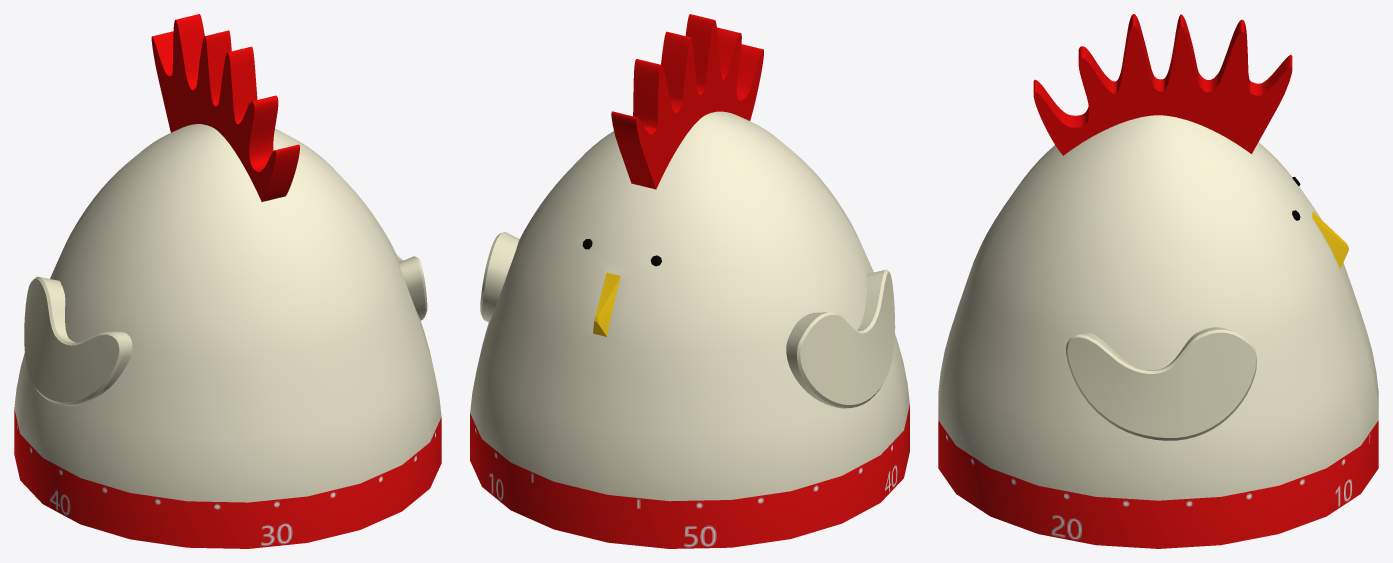
The model's file is gallina.glb.glb.
3 views of the same model, side by side, from view 1: azimuth 30°, elevation 25°; view 2: azimuth 150°, elevation 25°; view 3: azimuth 270°, elevation 25° (orthographic). The views are drawn at different scales.
Parts seen in each view (by area): view 1: Line001_16 - Matte Plastic_0, Line002, Line003_Material #27_0, Line004_Material #27_0; view 2: Line001_16 - Matte Plastic_0, Line002, Line003_Material #27_0, Line004_Material #27_0; view 3: Line001_16 - Matte Plastic_0, Line002, Line004_Material #27_0.
Part boxes in pixels (left/top/right/bottom): Line001_16 - Matte Plastic_0: left=14, top=124, right=441, bottom=548; Line002: left=151, top=14, right=299, bottom=201; Line003_Material #27_0: left=24, top=276, right=132, bottom=405; Line004_Material #27_0: left=396, top=254, right=427, bottom=320; Line001_16 - Matte Plastic_0: left=470, top=111, right=909, bottom=548; Line002: left=611, top=14, right=763, bottom=189; Line003_Material #27_0: left=786, top=269, right=895, bottom=408; Line004_Material #27_0: left=480, top=232, right=519, bottom=322; Line001_16 - Matte Plastic_0: left=938, top=115, right=1378, bottom=548; Line002: left=1033, top=14, right=1292, bottom=155; Line004_Material #27_0: left=1066, top=327, right=1256, bottom=440.
Size of the model in its own units: 1.21 by 1.31 by 1.2.
3 materials, 1 textured.
